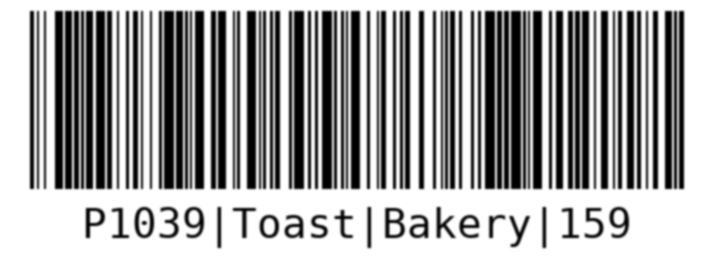milk: (23, 3, 687, 260)
